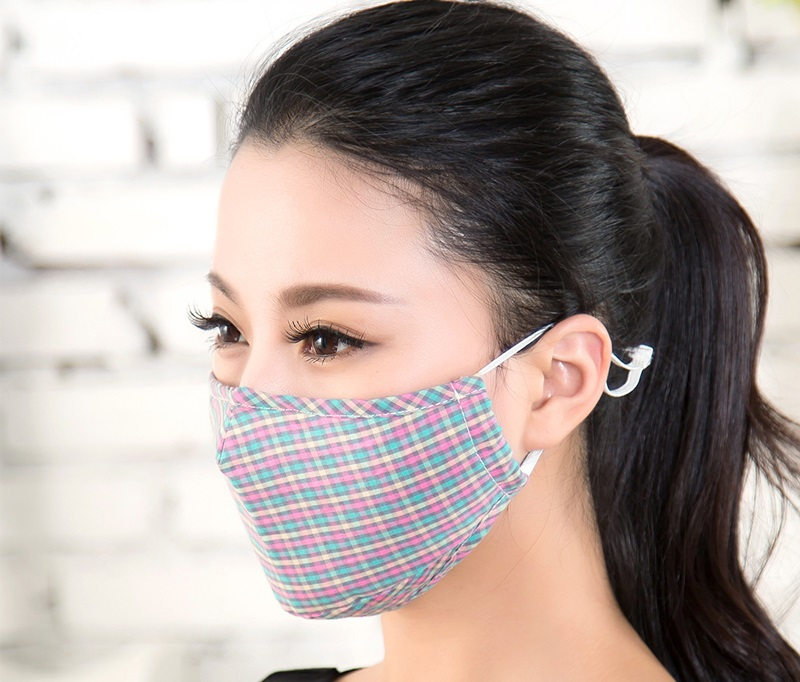face_mask: (202, 161, 510, 628)
